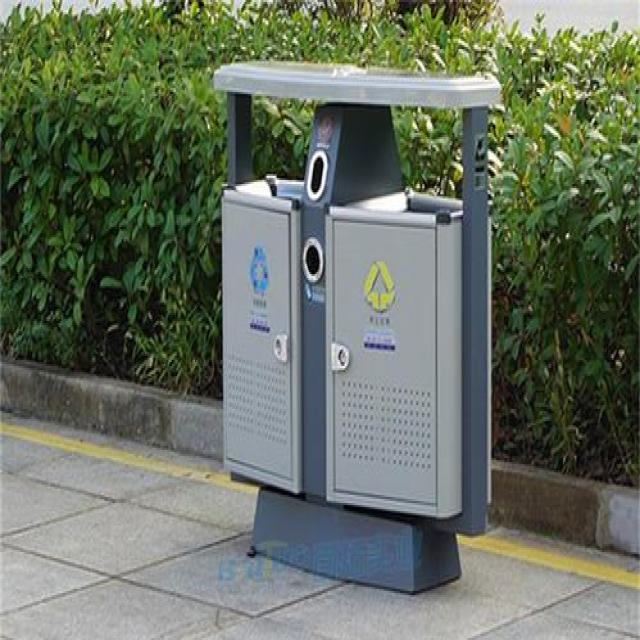garbage_bin: (212, 57, 499, 591)
